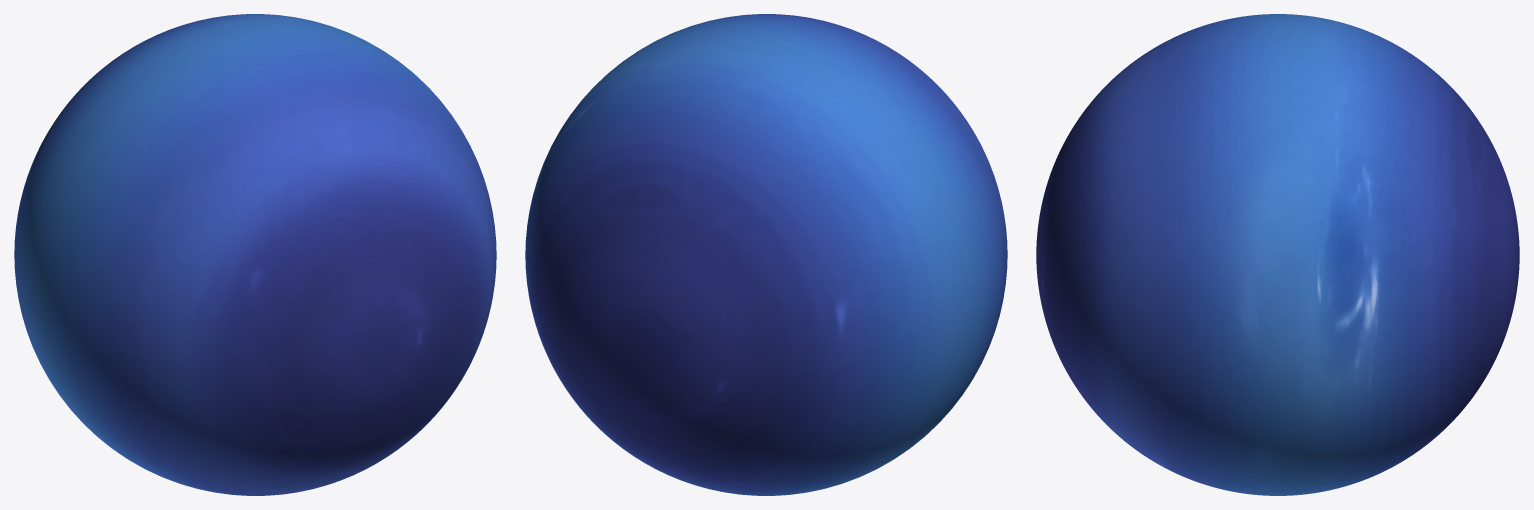
The model's file is neptun.glb.
3 views of the same model, side by side, from view 1: azimuth 30°, elevation 25°; view 2: azimuth 150°, elevation 25°; view 3: azimuth 270°, elevation 25° (orthographic).
Visible parts, largest first — view 1: Neptun; view 2: Neptun; view 3: Neptun.
Part boxes in pixels (bbox=[...]): Neptun: bbox=[14, 14, 496, 495]; Neptun: bbox=[525, 14, 1007, 495]; Neptun: bbox=[1036, 14, 1519, 495].
Size of the model in its own units: 1.99 by 1.99 by 2.
1 material, 1 textured.
